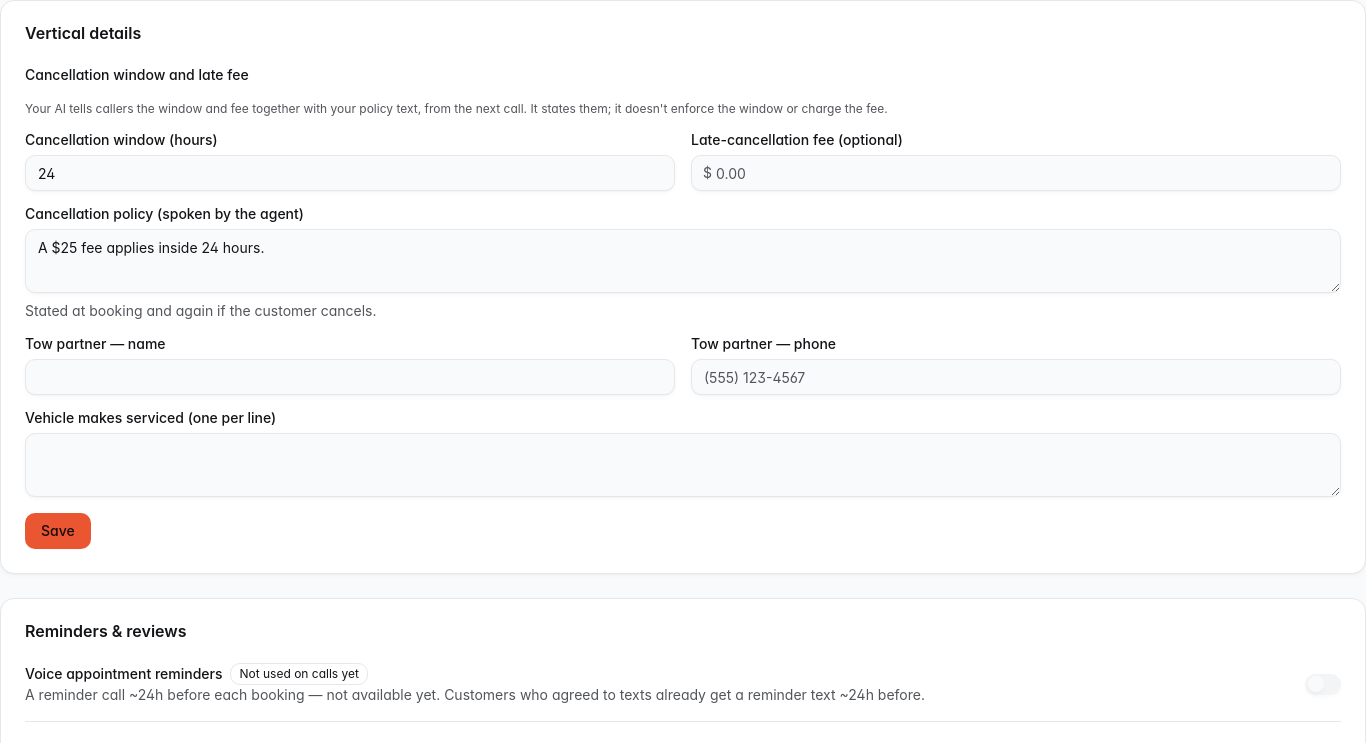
Test: VerticalDetailsTabPage — owner-only (QA-1 F-5 / F-17) › F-17: a cancellation window over a year is rejected before posting
Replace the text in the number field labelled "Cancellation window (hours)" with "999999". click: (350, 173)
box: [25,155,675,191]
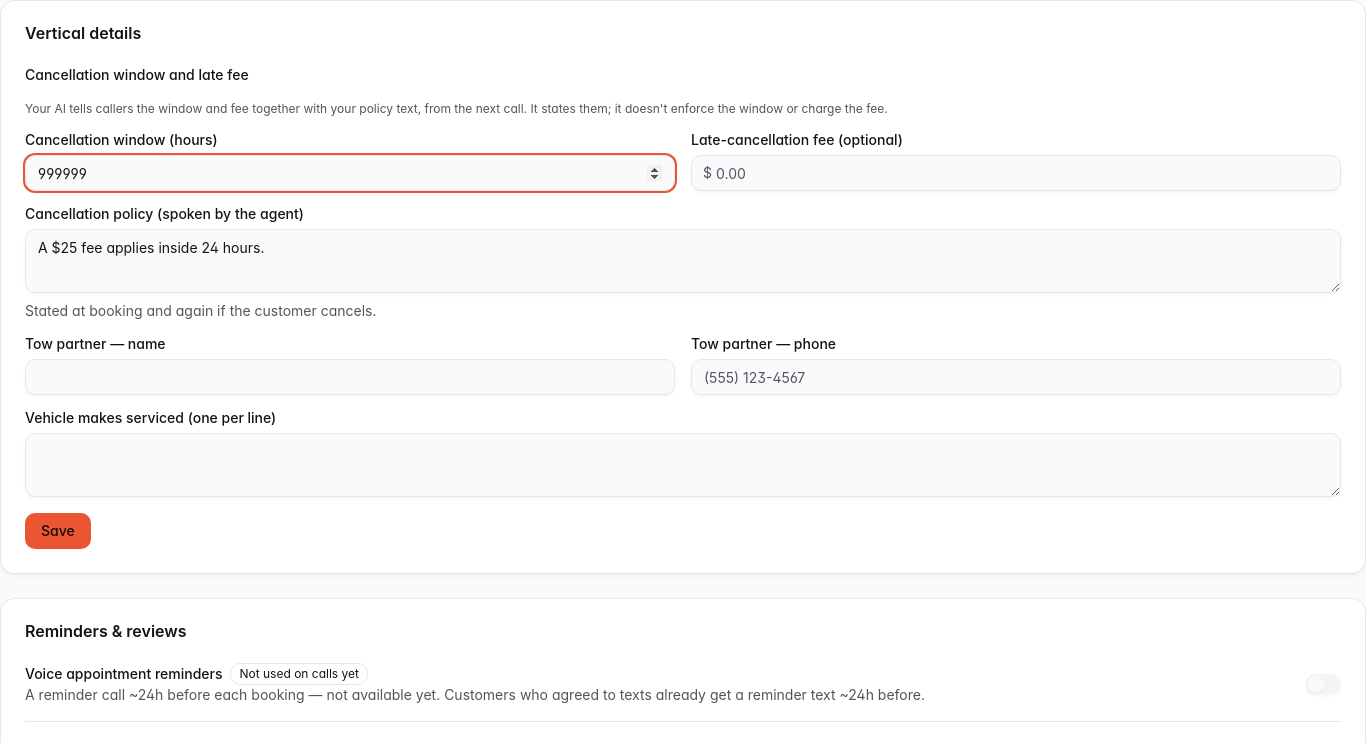
Click the button "Save". click: (58, 531)
box: [25,513,91,549]
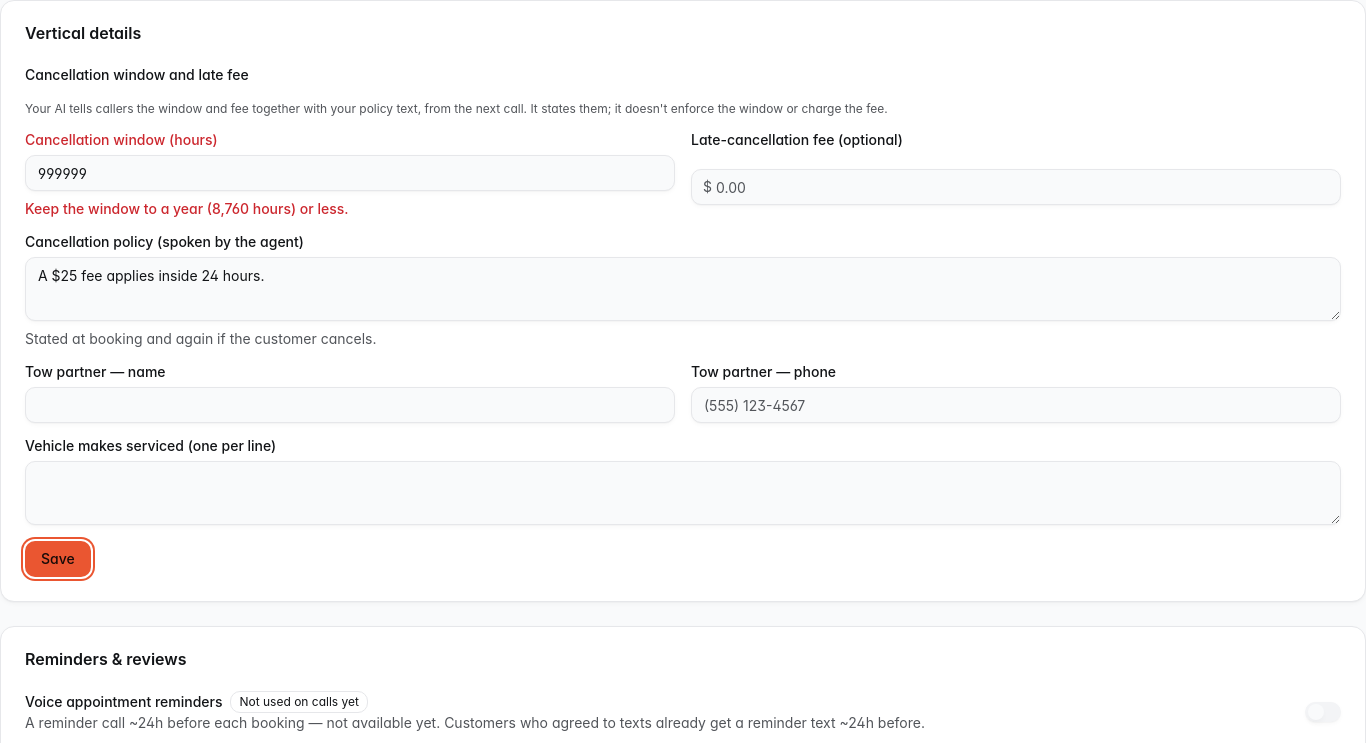
Now the text "Keep the window to a year (8,760 hours) or less." is shown, box [25,200,348,217]
